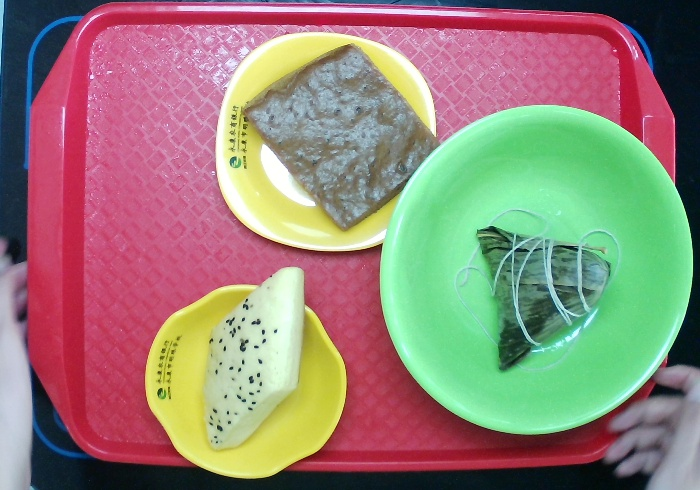YKMZ-Huang_Se_Ao_Bian_Wan: (126, 266, 361, 490)
YKMZ-Huang_Se_Fang_Die: (198, 27, 445, 260)
YKMZ-Lv_Se_Tang_Wan: (373, 102, 700, 451)
